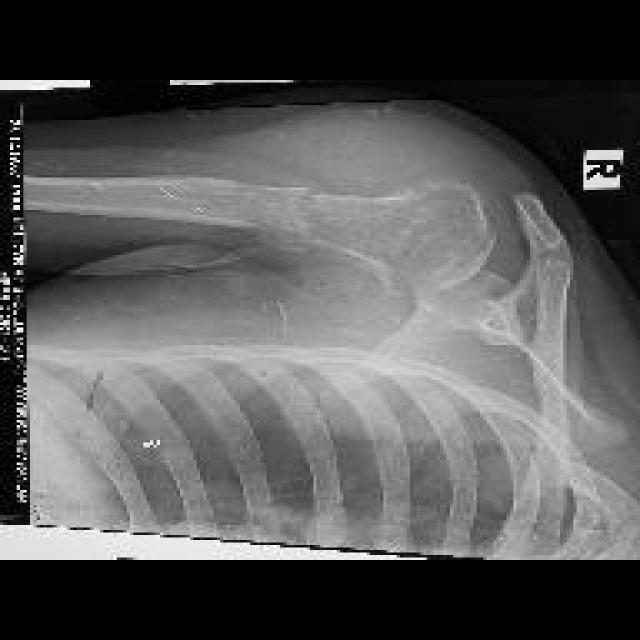bone-cancer: (222, 183, 495, 288)
